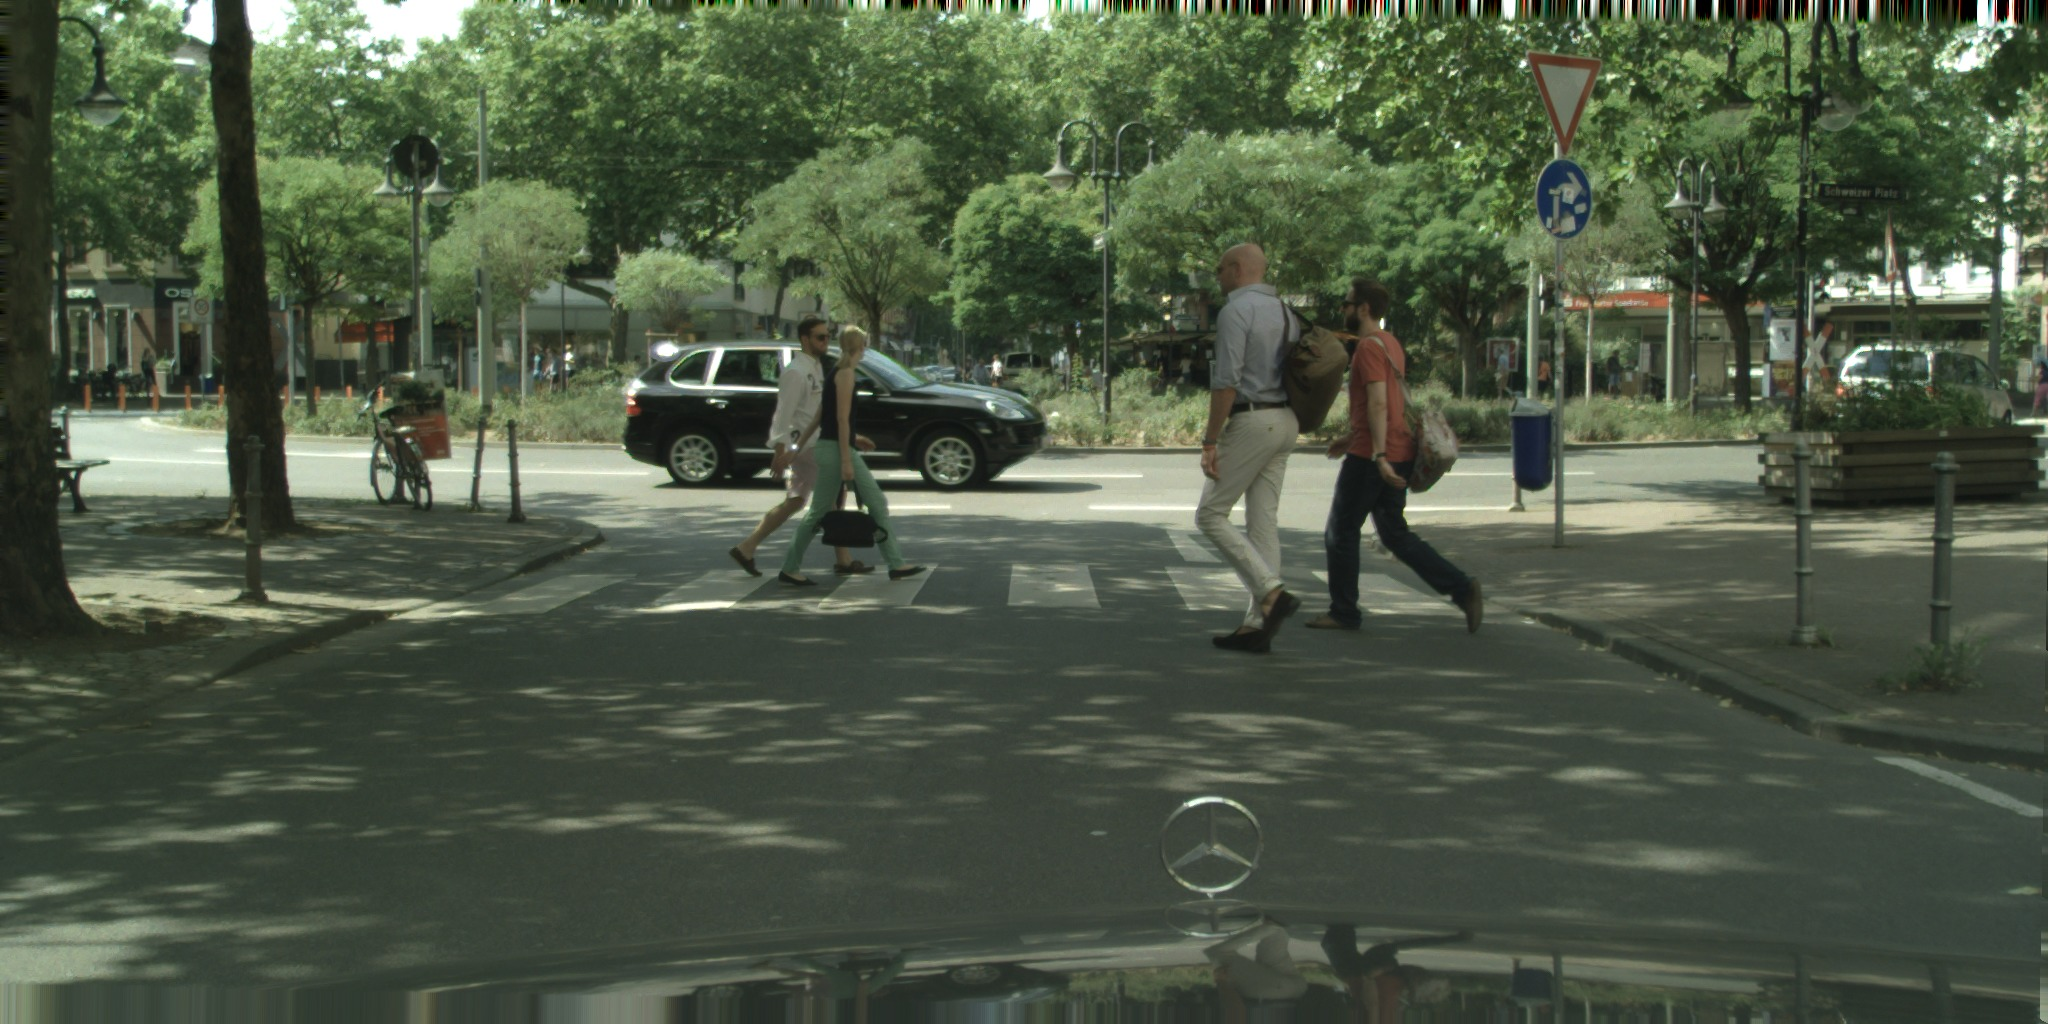bicycle: (356, 379, 433, 512)
car: (621, 338, 1048, 491), (1835, 344, 2013, 458), (991, 352, 1040, 403), (975, 365, 996, 397)
person: (1302, 273, 1484, 634), (1195, 242, 1350, 654), (777, 326, 926, 585), (727, 318, 874, 577), (2027, 359, 2047, 417), (970, 356, 991, 409), (1530, 352, 1552, 401), (1496, 348, 1515, 398), (989, 351, 1003, 411), (1607, 349, 1623, 398), (142, 348, 161, 392), (563, 343, 576, 388), (1179, 352, 1196, 384)
